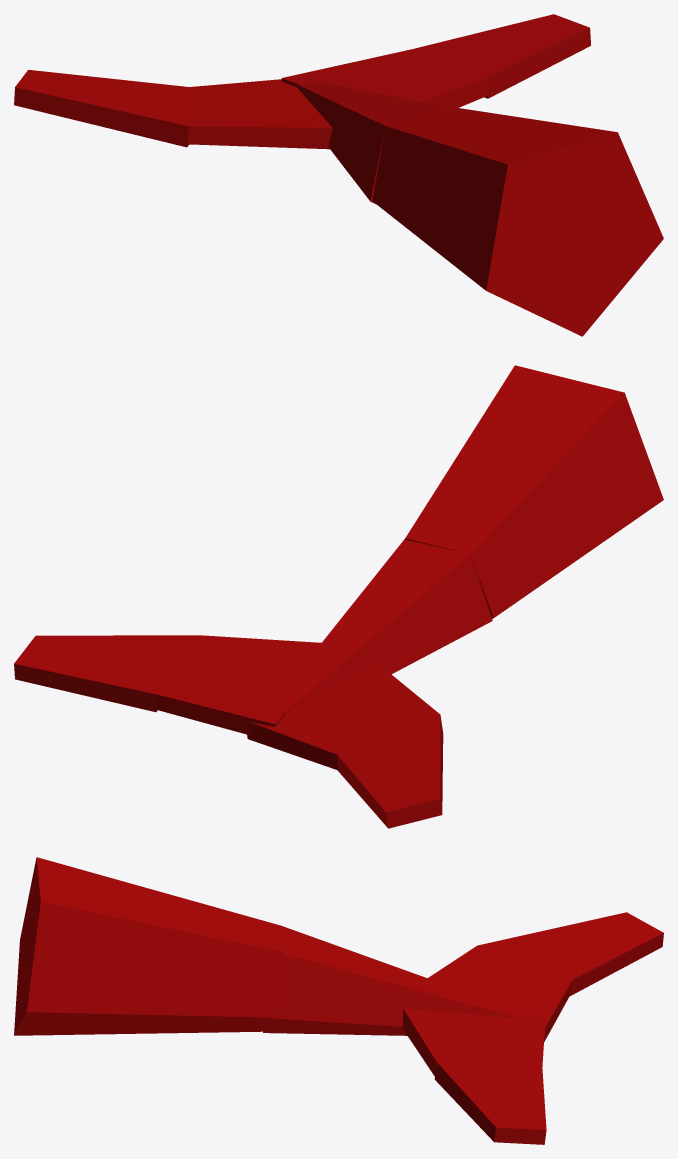
Rendered from SM_Prop_Whale_Skeleton_Tail_01_Collision.glb.
The picture shows the model from 3 angles, top to bottom: view 1: azimuth 30°, elevation 25°; view 2: azimuth 150°, elevation 25°; view 3: azimuth 270°, elevation 25°; orthographic projection. The views are drawn at different scales.
Visible parts, largest first — view 1: SM_Prop_Whale_Skeleton_Tail_01_Collision; view 2: SM_Prop_Whale_Skeleton_Tail_01_Collision; view 3: SM_Prop_Whale_Skeleton_Tail_01_Collision.
Part boxes in pixels (x1,y1,x2,y2): SM_Prop_Whale_Skeleton_Tail_01_Collision: (14,14,663,336); SM_Prop_Whale_Skeleton_Tail_01_Collision: (14,365,663,828); SM_Prop_Whale_Skeleton_Tail_01_Collision: (14,857,663,1144).
Bounding box in the file's own units: 8.08 × 2.79 × 10.56.
